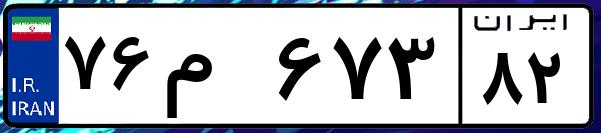2: (525, 38, 570, 115)
3: (385, 28, 445, 110)
6: (270, 28, 330, 110), (110, 28, 158, 98)
7: (330, 28, 385, 110), (57, 26, 110, 100)
8: (475, 38, 525, 113)
م: (158, 20, 270, 120)
